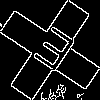E: (25, 25, 78, 82)
